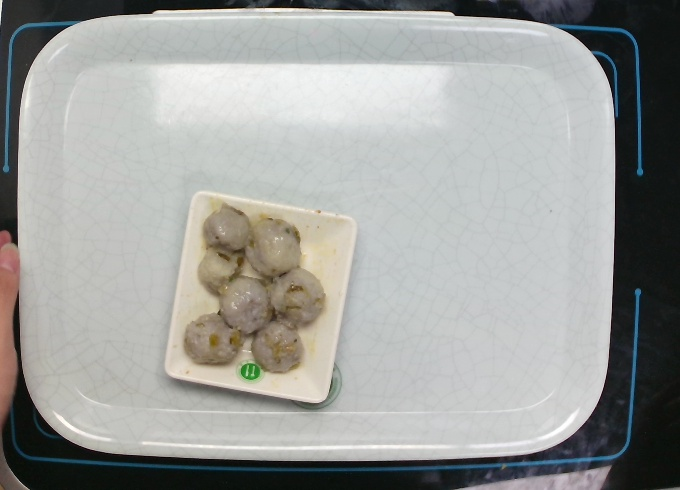WCQzf-Bai_Se_Si_Fang_Die: (157, 181, 362, 408)
